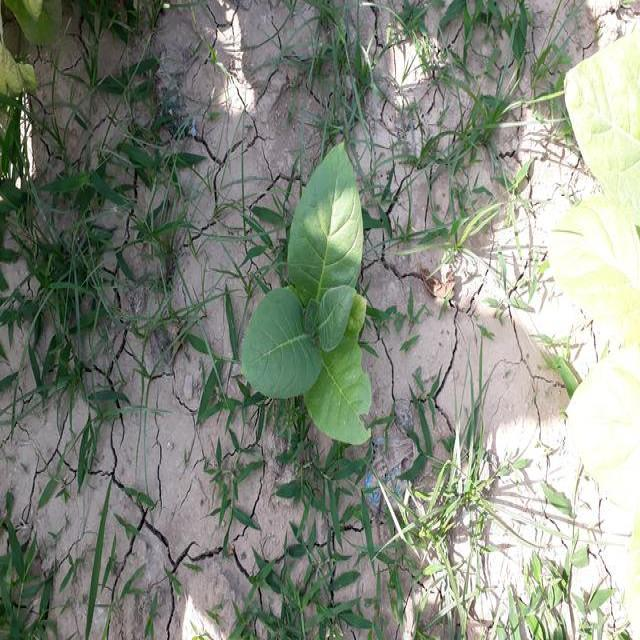crop: (235, 127, 387, 464)
